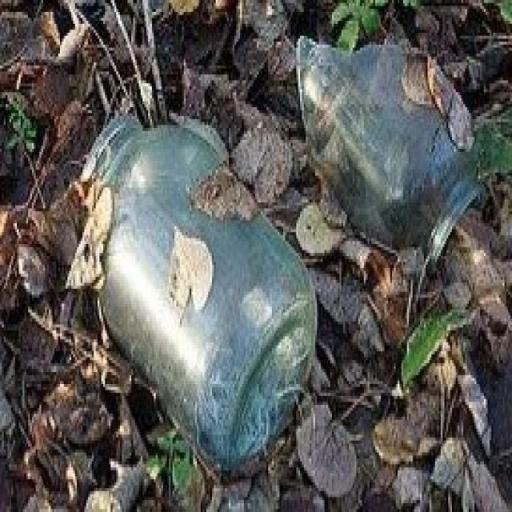glass: (76, 94, 344, 470), (288, 21, 496, 301)
